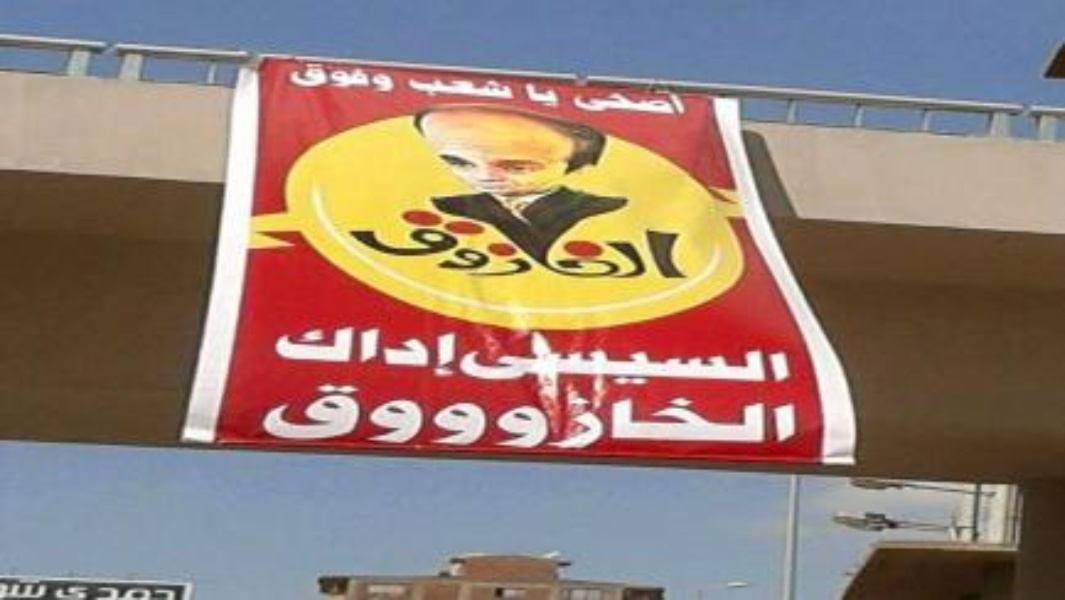text: (673, 205, 689, 281), (353, 205, 368, 281), (369, 205, 384, 281), (385, 205, 400, 281), (401, 205, 416, 281), (417, 205, 432, 281), (433, 205, 448, 281), (449, 205, 464, 281), (465, 205, 480, 281), (481, 205, 496, 281), (497, 205, 512, 281), (513, 205, 528, 281), (529, 205, 544, 281), (545, 205, 560, 281), (561, 205, 576, 281), (577, 205, 592, 281), (593, 205, 608, 281), (609, 205, 624, 281), (625, 205, 640, 281), (641, 205, 656, 281), (657, 205, 672, 281), (273, 382, 288, 451), (289, 382, 304, 451), (305, 382, 320, 451), (321, 382, 336, 451), (337, 382, 352, 451), (353, 382, 368, 451), (369, 382, 384, 451), (385, 382, 400, 451), (401, 382, 416, 451), (417, 382, 432, 451), (433, 382, 448, 451), (449, 382, 464, 451), (465, 382, 480, 451), (481, 382, 496, 451), (497, 382, 512, 451), (513, 382, 528, 451), (529, 382, 544, 451), (545, 382, 560, 451), (561, 382, 576, 451), (577, 382, 592, 451), (593, 382, 608, 451), (609, 382, 624, 451), (625, 382, 640, 451), (641, 382, 656, 451), (657, 382, 672, 451), (673, 382, 688, 451), (689, 382, 704, 451), (705, 382, 720, 451), (721, 382, 736, 451), (737, 382, 752, 451), (753, 382, 768, 451), (769, 382, 784, 451), (259, 382, 272, 451), (289, 323, 304, 379), (305, 323, 320, 379), (321, 323, 336, 379), (337, 323, 352, 379), (353, 323, 368, 379), (369, 323, 384, 379), (385, 323, 400, 379), (401, 323, 416, 379), (417, 323, 432, 379), (433, 323, 448, 379), (785, 382, 797, 451), (465, 342, 480, 391), (481, 342, 496, 391), (497, 342, 512, 391), (513, 342, 528, 391), (529, 342, 544, 391), (545, 342, 560, 391), (561, 342, 576, 391), (577, 342, 592, 391), (593, 342, 608, 391), (609, 342, 624, 391), (625, 342, 640, 391), (641, 342, 656, 391), (657, 342, 672, 391), (673, 342, 688, 391), (689, 342, 704, 391), (705, 342, 720, 391), (721, 342, 736, 391), (737, 342, 752, 391), (753, 342, 768, 391), (769, 342, 784, 391), (449, 323, 460, 379), (278, 323, 288, 379), (289, 60, 304, 94), (305, 60, 320, 94), (321, 60, 336, 94), (337, 60, 352, 94), (353, 60, 368, 94), (369, 60, 384, 94), (577, 87, 592, 119), (593, 87, 608, 119), (609, 87, 624, 119), (625, 87, 640, 119), (641, 87, 656, 119), (657, 87, 672, 119), (673, 87, 688, 119), (529, 77, 544, 109), (545, 77, 559, 109), (417, 77, 432, 104), (433, 77, 448, 104), (449, 77, 464, 104), (465, 77, 480, 104), (481, 77, 496, 104), (497, 77, 512, 104), (385, 60, 396, 94), (566, 87, 576, 119), (458, 342, 464, 391), (17, 581, 32, 598), (33, 581, 48, 598), (49, 581, 64, 598), (65, 581, 80, 598), (81, 581, 96, 598), (97, 581, 112, 598), (113, 581, 128, 598), (129, 581, 144, 598), (145, 581, 160, 598), (161, 581, 176, 598), (785, 342, 790, 391), (409, 77, 416, 104), (350, 205, 352, 281), (8, 581, 16, 598), (524, 77, 528, 109), (689, 87, 692, 119), (513, 77, 515, 104), (177, 581, 180, 598)
